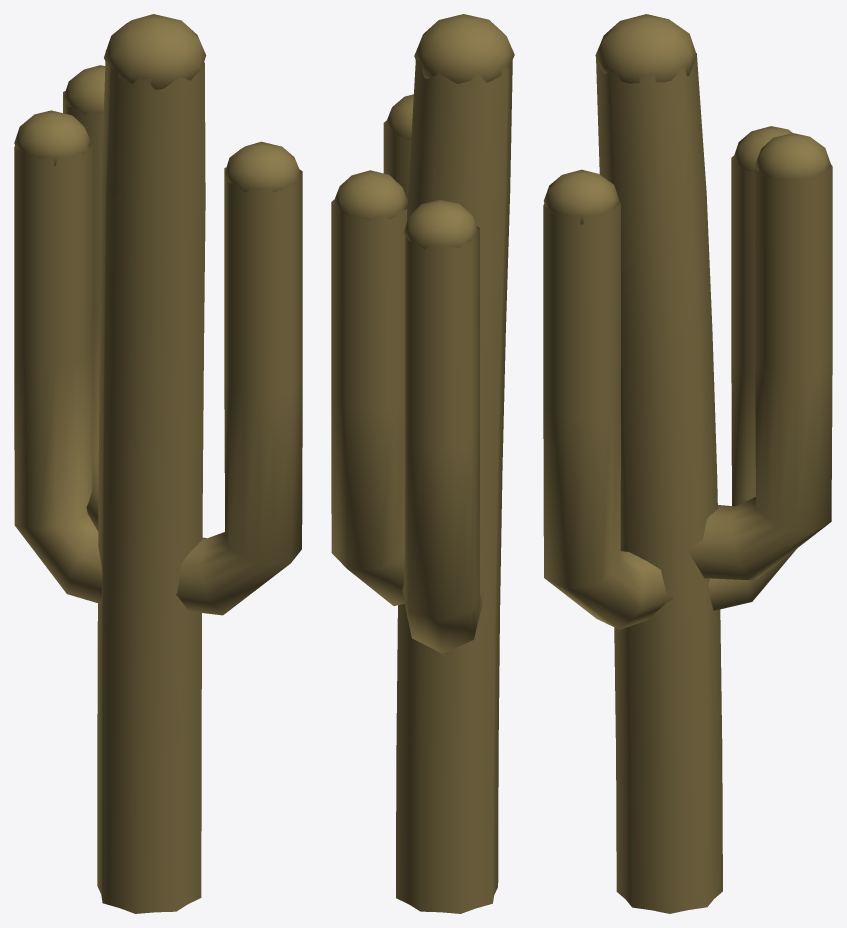
The model's file is saguaro_1_burnt1.glb.
3 renders of one model, left to right at view 1: azimuth 30°, elevation 25°; view 2: azimuth 150°, elevation 25°; view 3: azimuth 270°, elevation 25°, orthographic.
Parts seen in each view (by area): view 1: saguaro_1_burnt1; view 2: saguaro_1_burnt1; view 3: saguaro_1_burnt1.
Boxes of the visible parts, <box> form: saguaro_1_burnt1: <box>14,14,302,913</box>; saguaro_1_burnt1: <box>331,14,514,913</box>; saguaro_1_burnt1: <box>543,14,832,913</box>.
Bounding box in the file's own units: 1.27 × 5.91 × 1.78.
